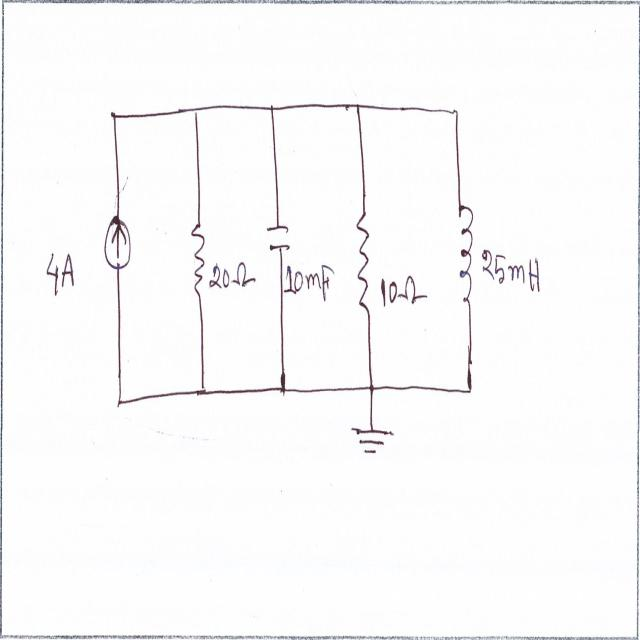capacitor: (265, 217, 290, 257)
current_source: (102, 212, 134, 276)
ground: (348, 417, 397, 462)
inductor: (454, 195, 476, 306)
resistor: (357, 209, 374, 315), (189, 210, 209, 296)
